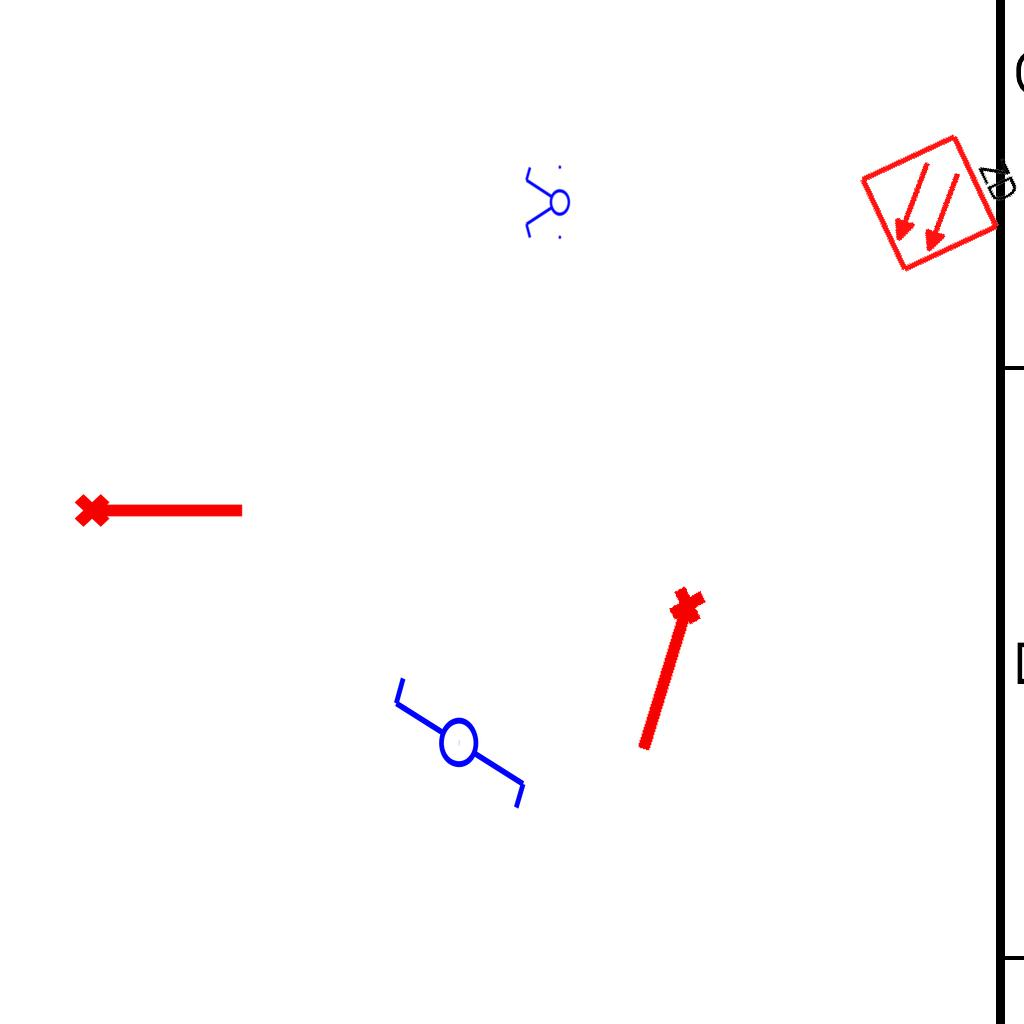ASR_Ansaugoeffnung: (622, 580, 718, 762), (72, 485, 248, 531)
Serienschalter: (523, 161, 571, 245)
Wechselschalter: (389, 656, 533, 813)
ZD_Melder_in_Zwischendecke_mit_Revisionsoeffnung_mind_40_x_40_cm: (854, 110, 1024, 277)
